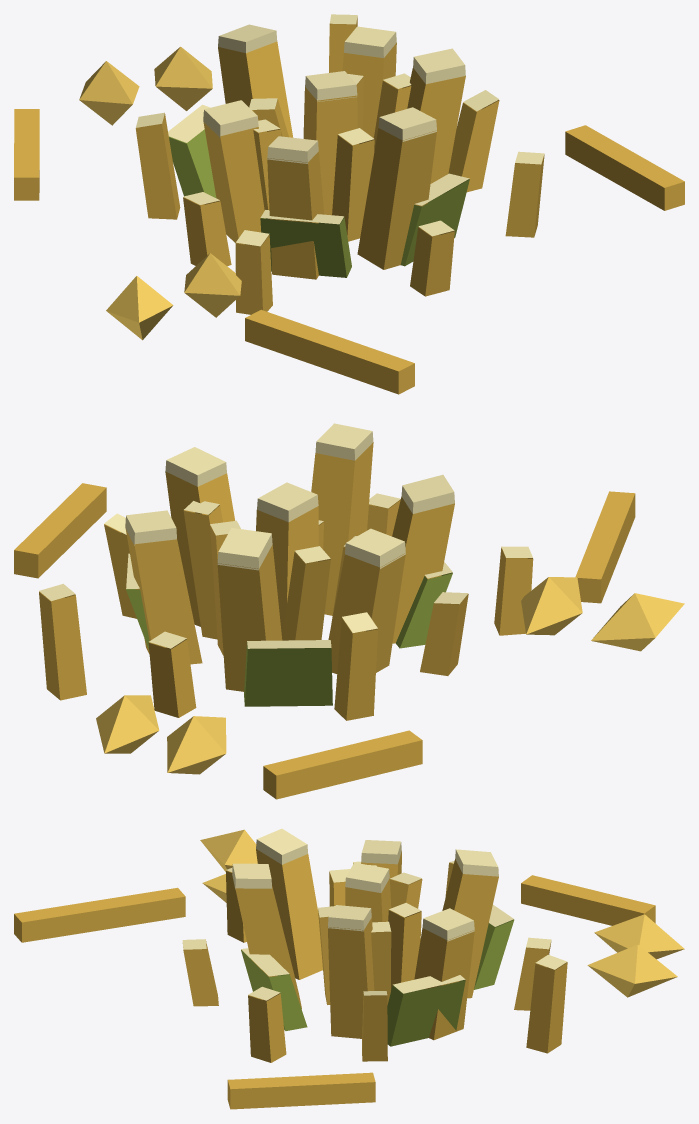
File: tuft_wheat_cut.glb
3 views of the same model, one above another, from view 1: azimuth 30°, elevation 25°; view 2: azimuth 150°, elevation 25°; view 3: azimuth 270°, elevation 25° (orthographic). The views are drawn at different scales.
Visible parts, largest first — view 1: Grass__E6B846, SmoothPlastic__FAEEB2, Fabric__F6CE5C, Grass__92A840; view 2: Grass__E6B846, SmoothPlastic__FAEEB2, Fabric__F6CE5C, Grass__92A840; view 3: Grass__E6B846, SmoothPlastic__FAEEB2, Grass__92A840, Fabric__F6CE5C.
Boxes of the visible parts, left/top/right/bottom form: Grass__E6B846: left=14, top=16, right=684, bottom=394; SmoothPlastic__FAEEB2: left=136, top=14, right=544, bottom=246; Fabric__F6CE5C: left=79, top=46, right=241, bottom=340; Grass__92A840: left=169, top=129, right=469, bottom=277; Grass__E6B846: left=14, top=442, right=635, bottom=799; SmoothPlastic__FAEEB2: left=39, top=423, right=532, bottom=648; Fabric__F6CE5C: left=96, top=577, right=684, bottom=774; Grass__92A840: left=126, top=572, right=452, bottom=706; Grass__E6B846: left=14, top=849, right=655, bottom=1109; SmoothPlastic__FAEEB2: left=182, top=828, right=567, bottom=1000; Grass__92A840: left=241, top=919, right=514, bottom=1046; Fabric__F6CE5C: left=200, top=829, right=684, bottom=997.
Bounding box in the file's own units: 3.85 × 0.9885 × 4.5.
